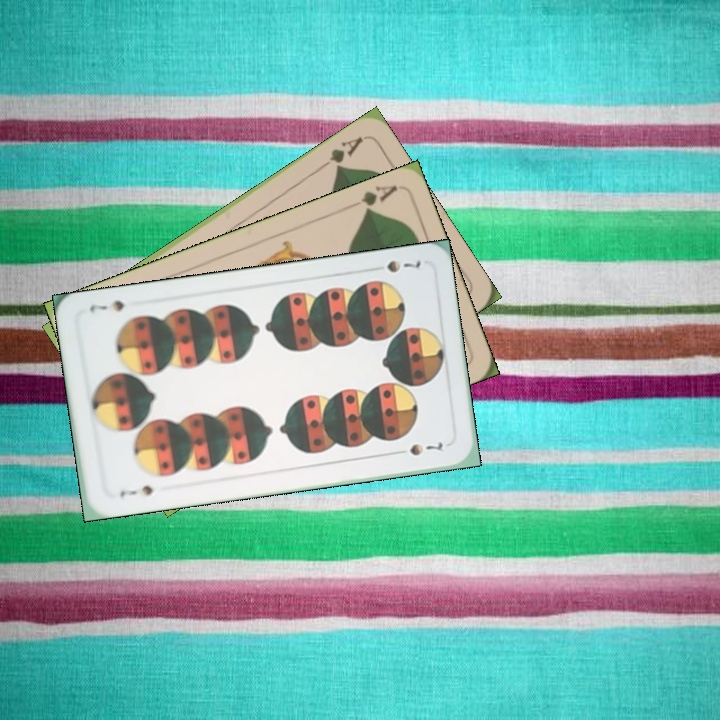GA: (315, 132, 366, 174), (356, 181, 400, 217)
S7: (382, 256, 424, 275), (116, 481, 156, 500)
